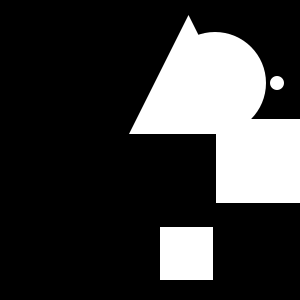circle: (216, 119, 300, 203), (160, 227, 213, 280)
rectangle: (164, 32, 266, 134), (270, 76, 284, 90)
triangle: (129, 15, 248, 134)
